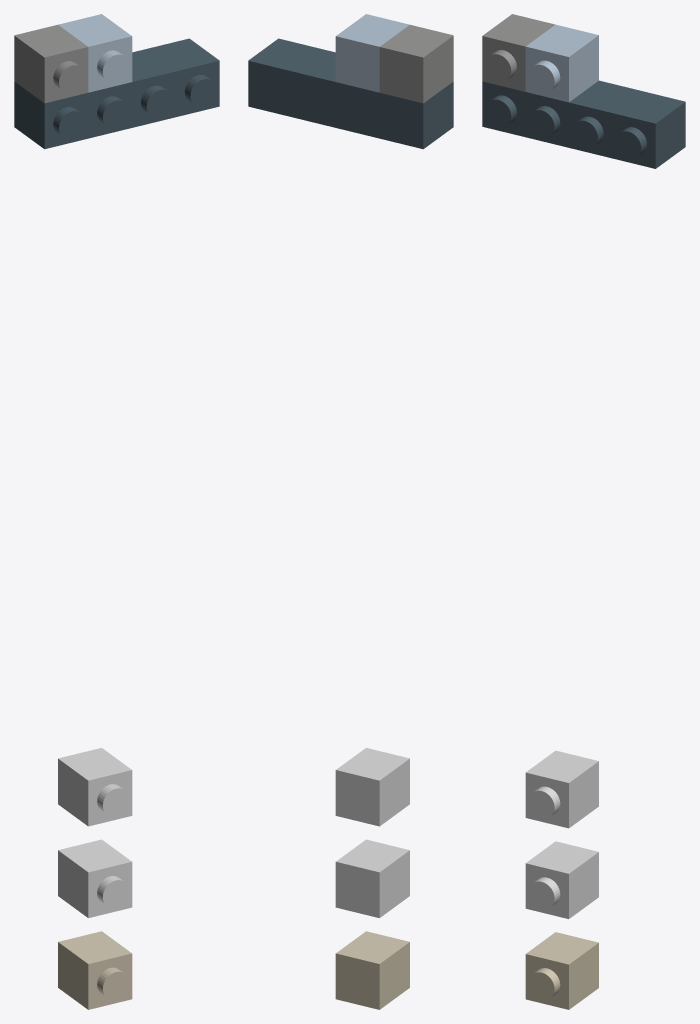
File: current.glb
The picture shows the model from 3 angles, left to right: view 1: azimuth 30°, elevation 25°; view 2: azimuth 150°, elevation 25°; view 3: azimuth 330°, elevation 25°; orthographic projection.
Parts seen in each view (by area): view 1: world; view 2: world; view 3: world.
Boxes of the visible parts, x1,y1,x2,y2 form: world: (14,14,219,1009); world: (248,14,453,1009); world: (482,14,685,1009).
Size of the model in its own units: 32 by 168 by 11.4.
